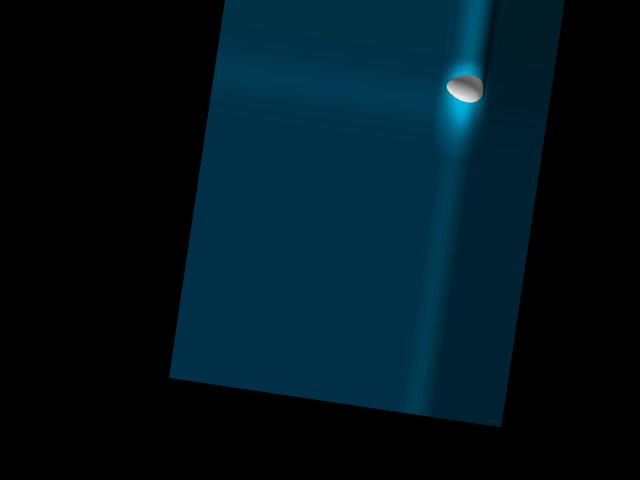egg: (445, 71, 486, 104)
